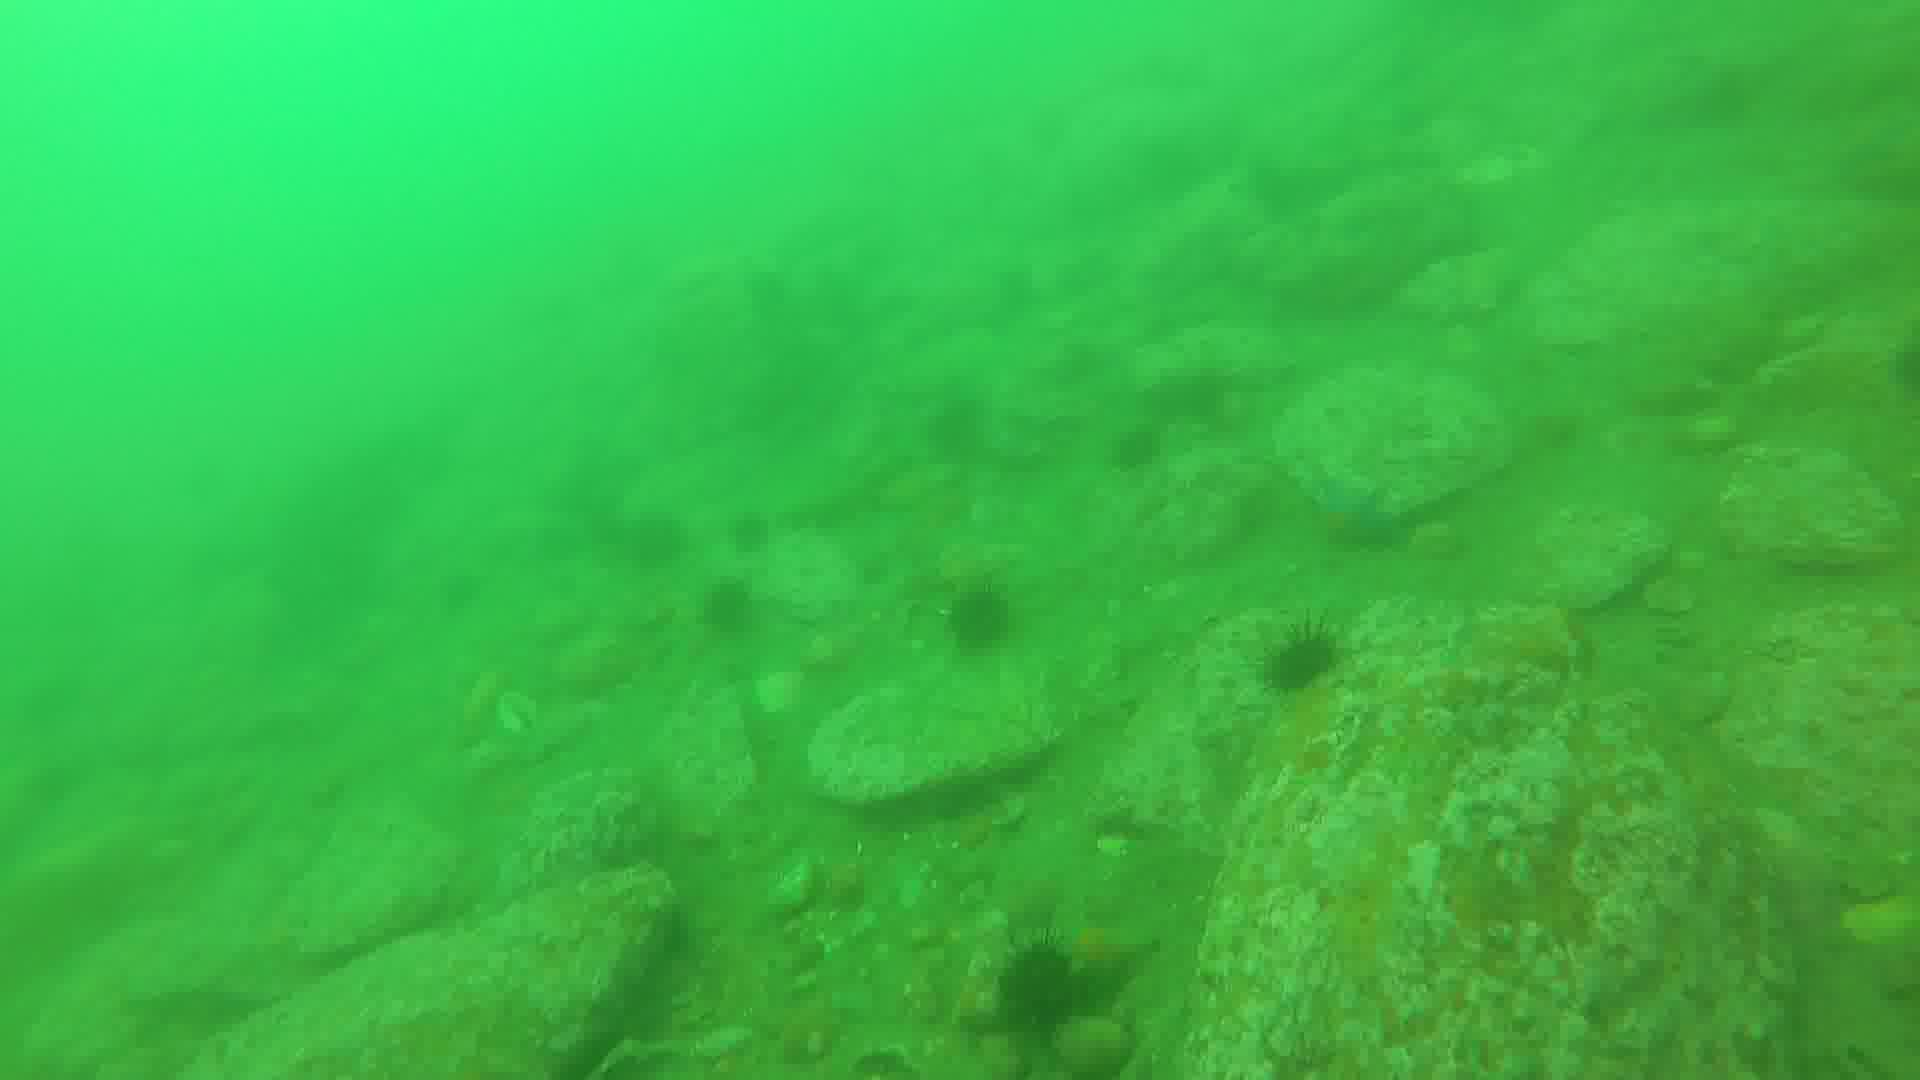echinus: (997, 935, 1089, 1027), (945, 571, 1021, 651), (1258, 626, 1346, 688), (705, 571, 765, 634)
starfish: (1304, 477, 1400, 554)
